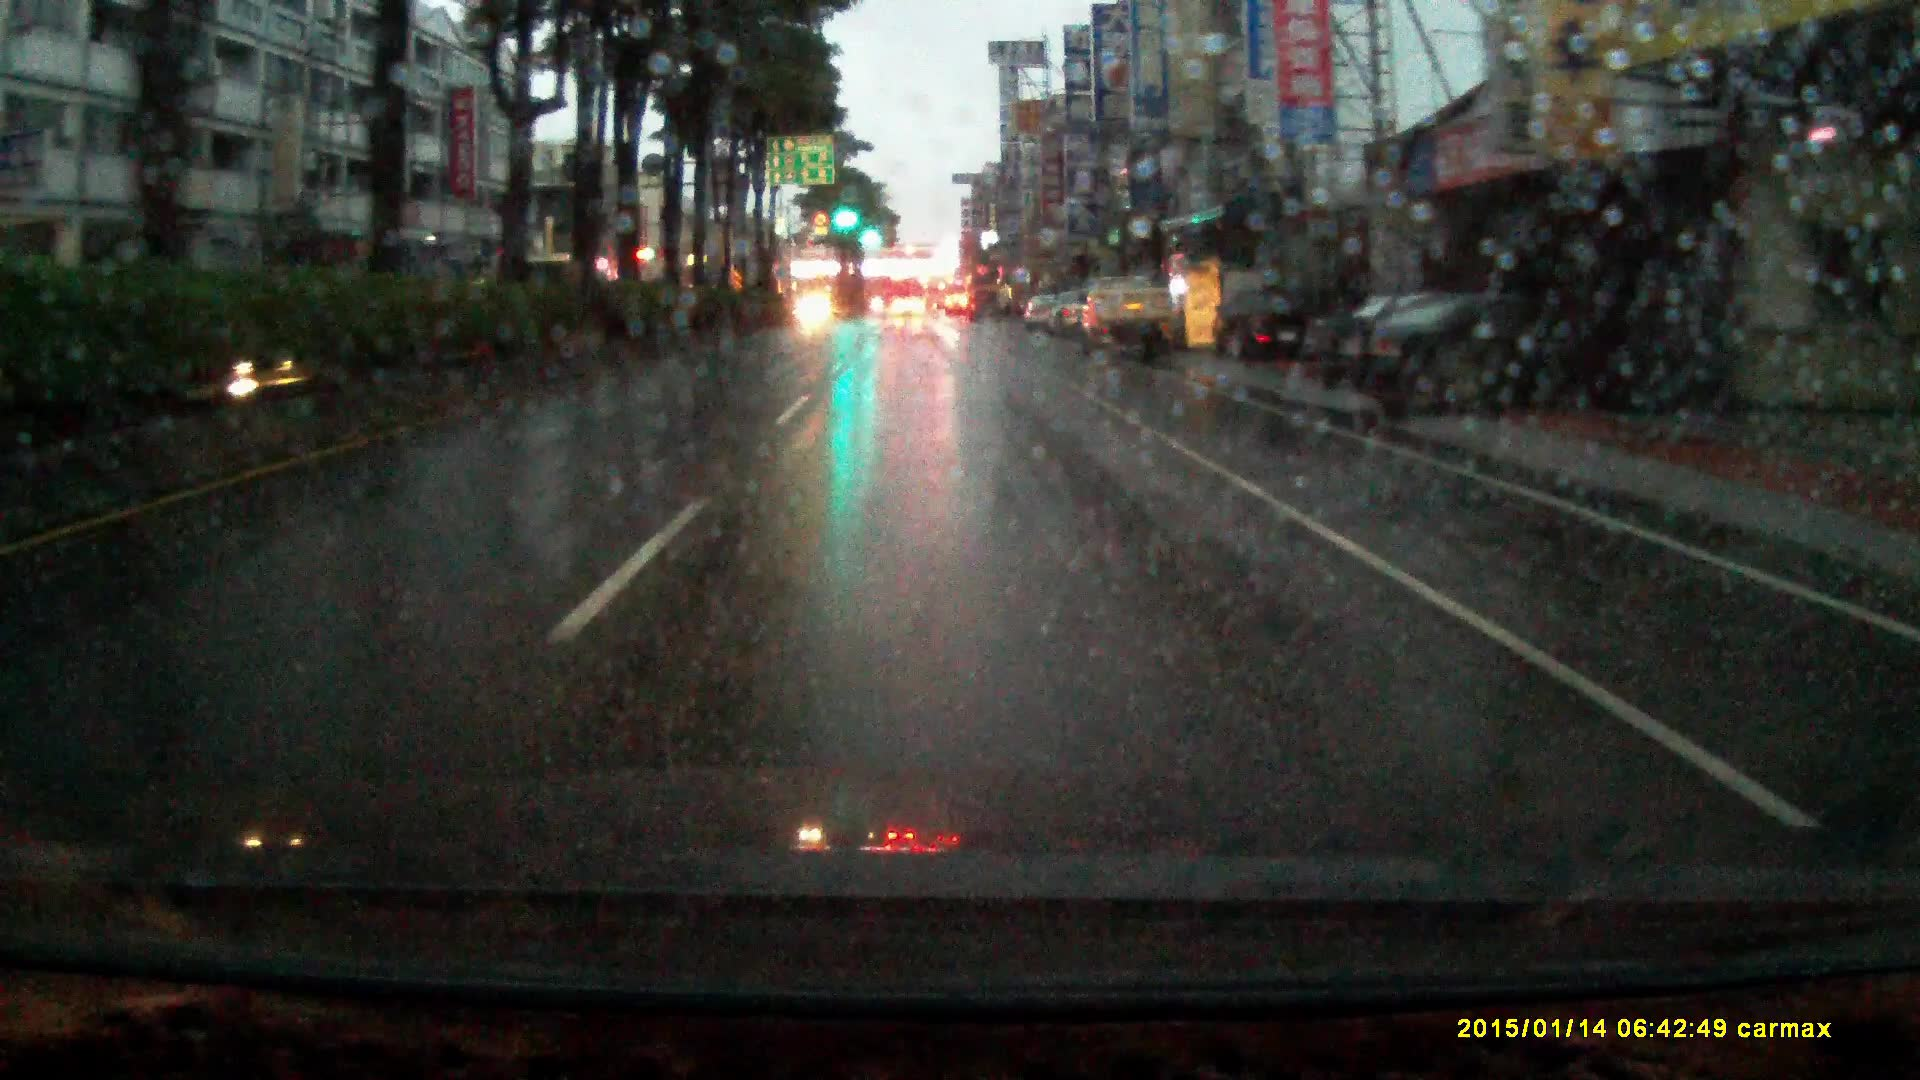vehicle: (1309, 298, 1702, 415), (1211, 293, 1317, 368), (1083, 276, 1176, 361), (1046, 291, 1091, 338), (794, 291, 837, 334), (1023, 294, 1059, 334), (891, 295, 927, 320), (924, 280, 947, 313)
